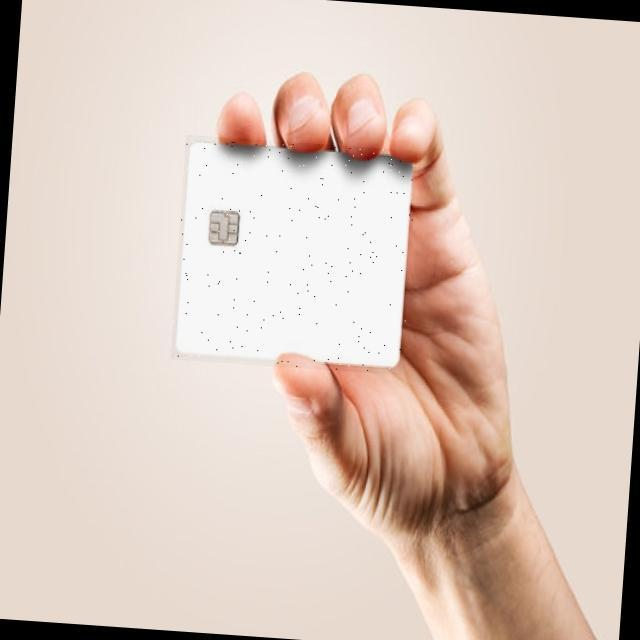payment_card: (173, 139, 413, 368)
